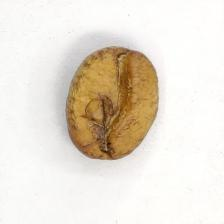NG: (75, 49, 143, 154)
